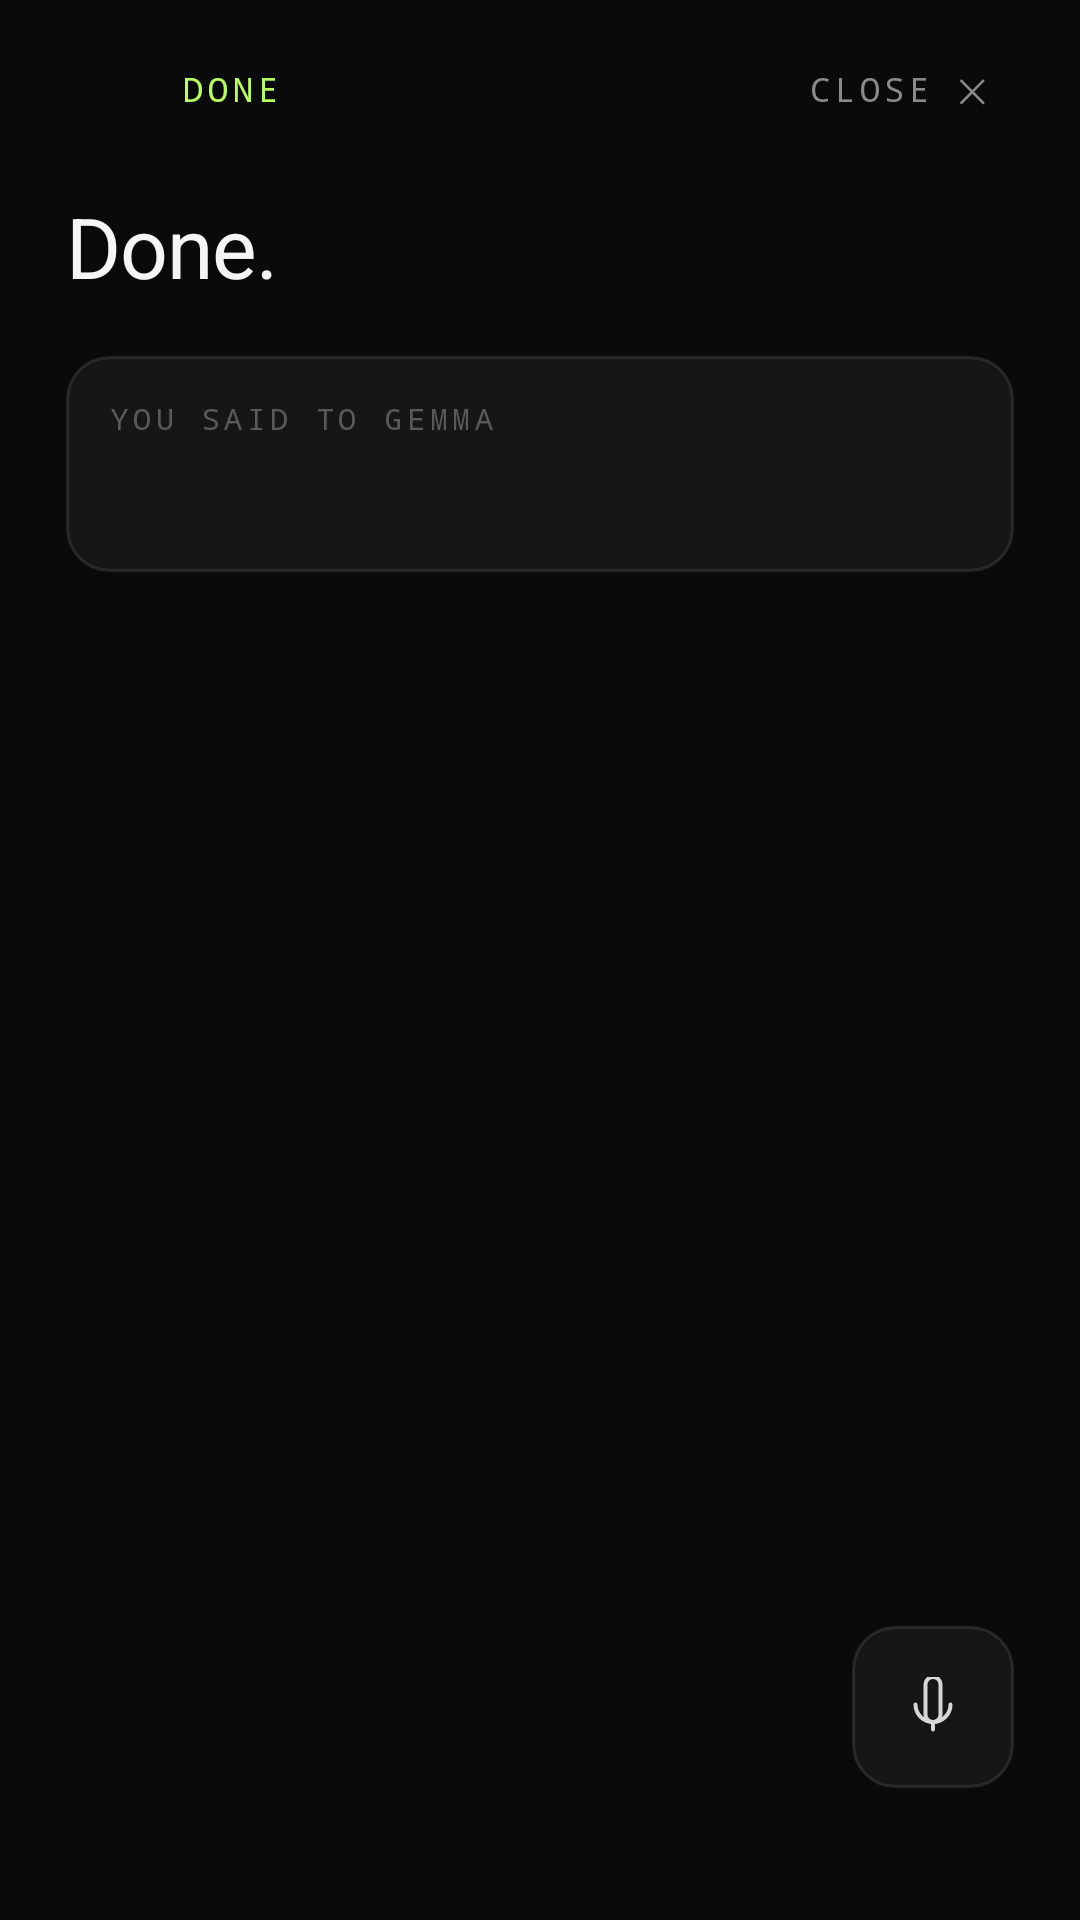

Icons on this 1080×1920 Android screen, each with its box as (x1=x1, y1=y1, x2=x2, y2=y2):
Mic: (x1=913, y1=1677, x2=953, y2=1732)
